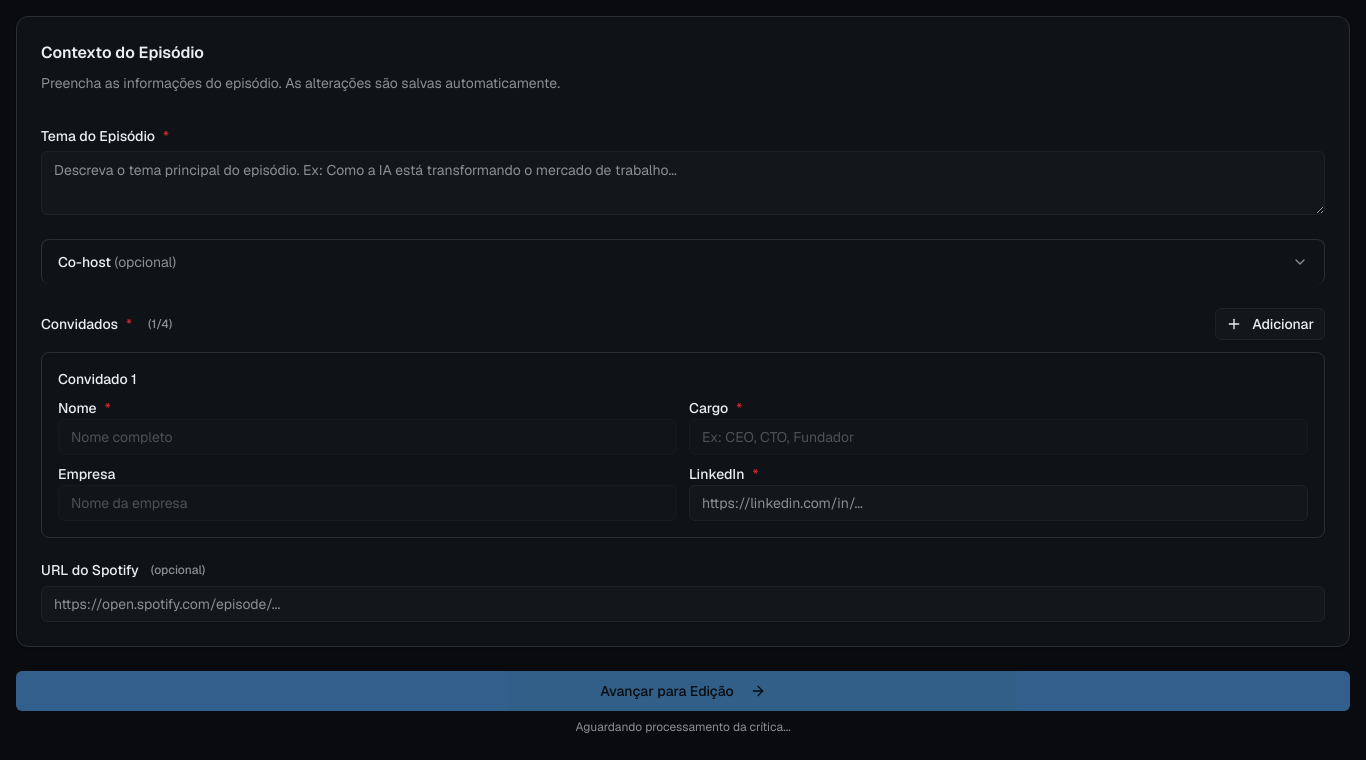
it: Phase1Critique › Context Input Form › allows adding more guests
This screenshot has width=1366, height=760.
Expected: the heading "Convidado 1" is shown, 58,369 -> 137,389
// Click add button
Click the button "Adicionar".
click(1270, 324)  # box 1215,308 -> 1325,340
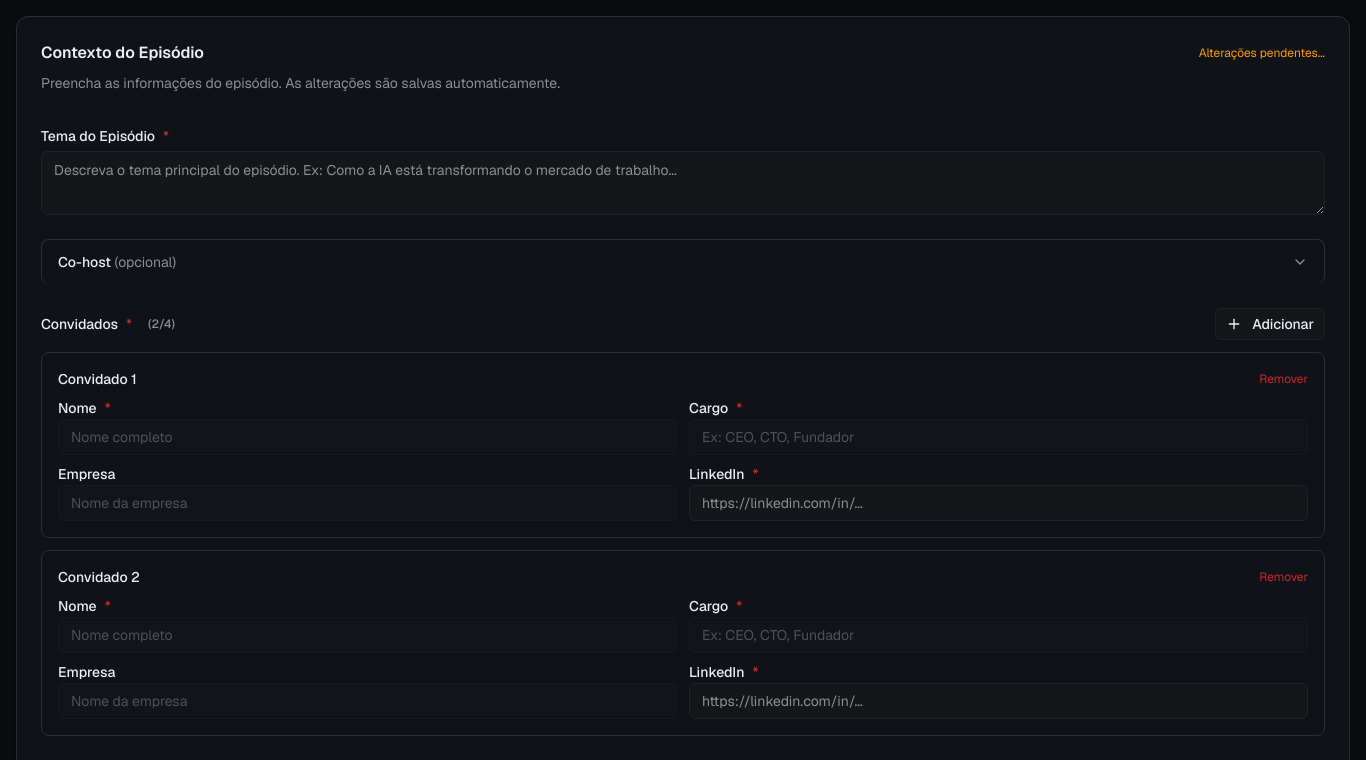
Expected: the heading "Convidado 2" is shown, 58,567 -> 140,587
